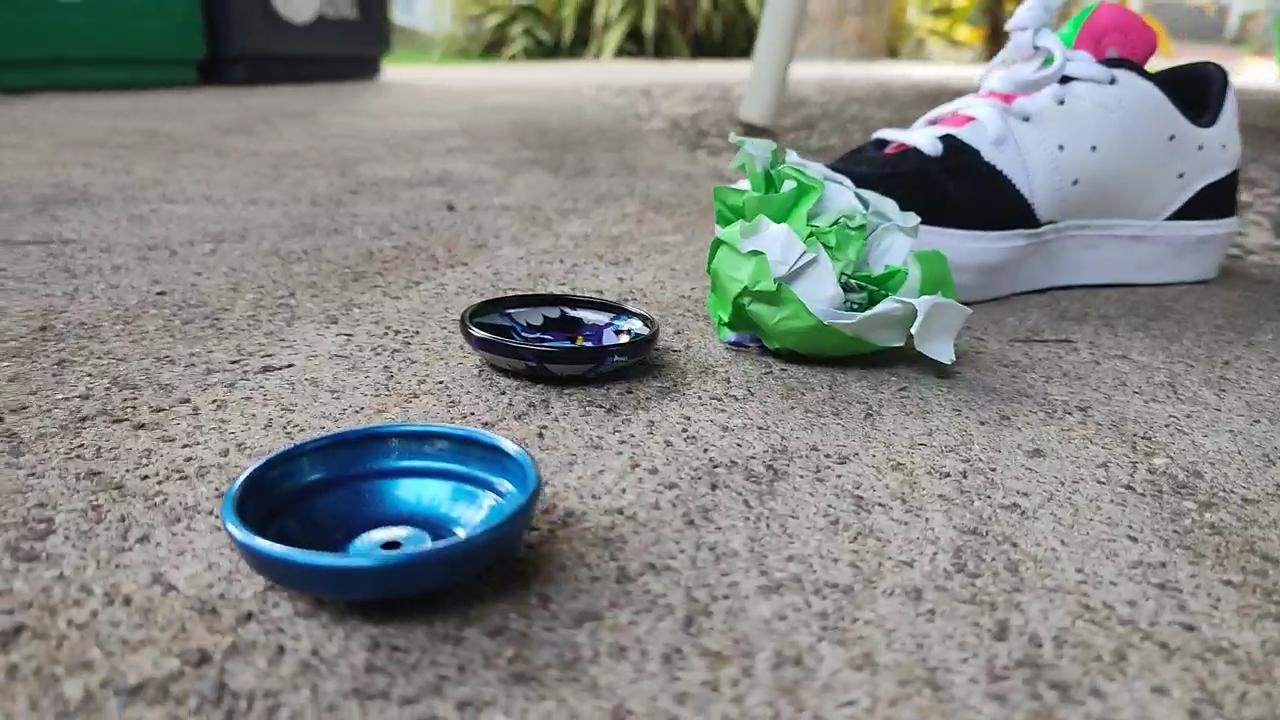Paper: (707, 128, 977, 386)
